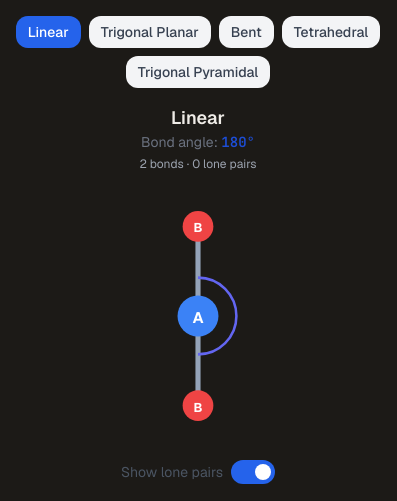
Test: MolecularGeometry › renders bent shape option
Click the button "Bent": (246, 32) x1=219 y1=16 x2=274 y2=48
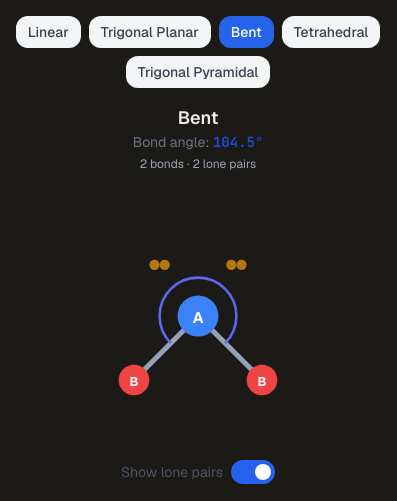
Result: the text with test id "shape-name" reads "Bent" at x1=178 y1=106 x2=218 y2=129
